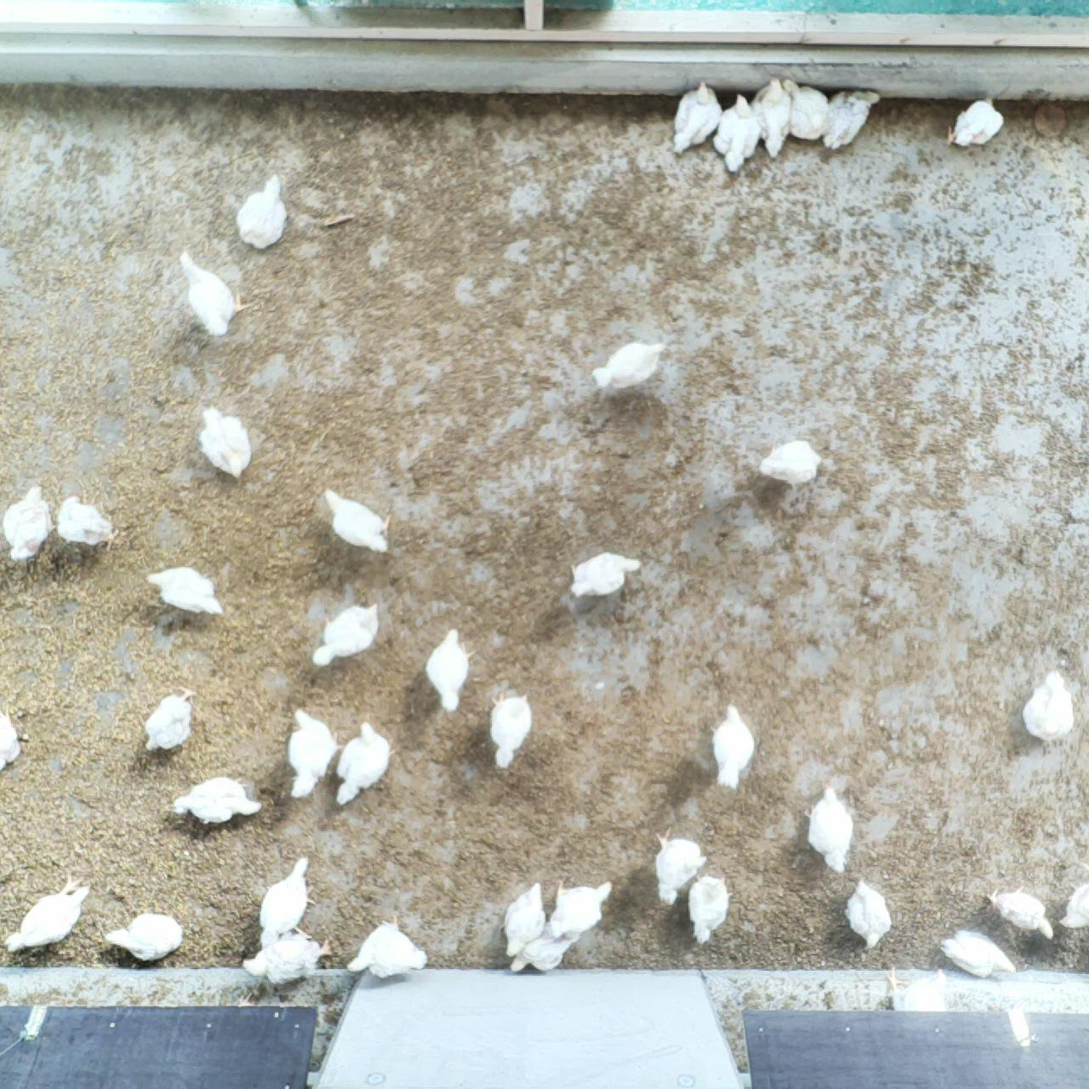chicken: (2, 871, 95, 957), (177, 248, 254, 339), (255, 854, 320, 951), (334, 718, 402, 807), (342, 913, 433, 978), (283, 705, 345, 800), (142, 559, 230, 624), (647, 820, 709, 912), (308, 599, 385, 672), (800, 780, 859, 875), (238, 928, 331, 986), (422, 625, 480, 717), (169, 773, 265, 828), (322, 485, 393, 557), (197, 402, 257, 485), (984, 879, 1056, 948), (100, 906, 187, 963), (542, 876, 616, 942), (588, 336, 669, 396), (565, 546, 649, 602), (1019, 667, 1079, 745), (0, 482, 57, 564), (485, 686, 542, 767), (667, 77, 724, 158), (707, 705, 760, 791), (233, 172, 291, 250), (141, 684, 202, 756), (711, 91, 762, 177), (840, 878, 897, 954), (506, 920, 583, 976), (55, 490, 121, 553), (755, 435, 823, 496), (820, 86, 881, 154), (944, 92, 1009, 154), (683, 872, 734, 949), (499, 878, 548, 958), (755, 75, 794, 161), (781, 77, 831, 144), (0, 699, 25, 778)
